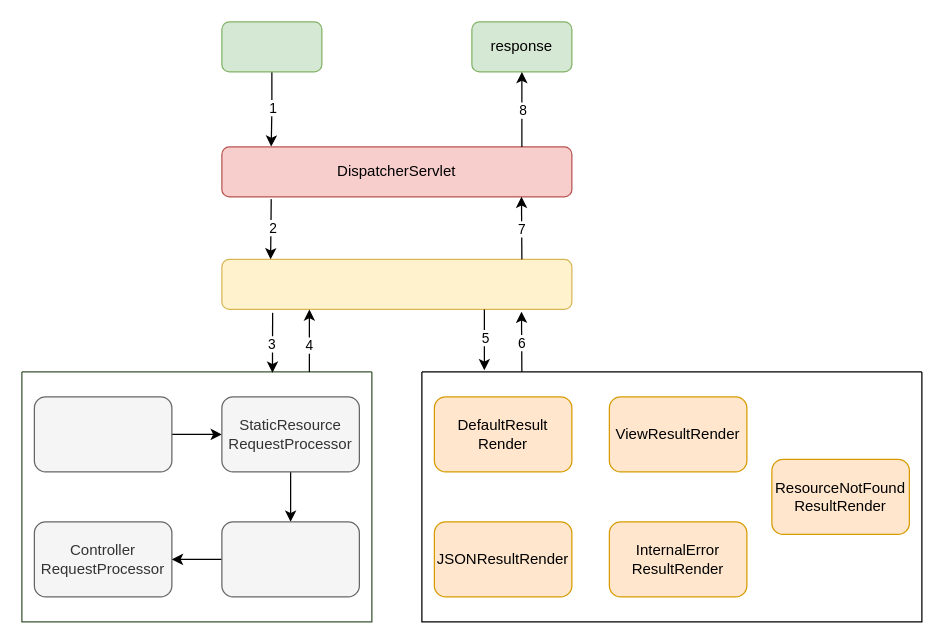
This 944x644 diagram has some shape labels left out. The shapes that lost their labels are listed below. From the top down, each one's centre as x and y in pixels, then its label:
the point at 271,46: request
the point at 396,283: ProcessorChain
the point at 102,434: PreRequest Processor
the point at 290,559: JSPResource RequestProcessor
